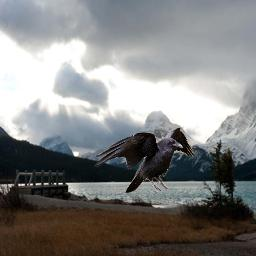Crow: (94, 127, 195, 193)
